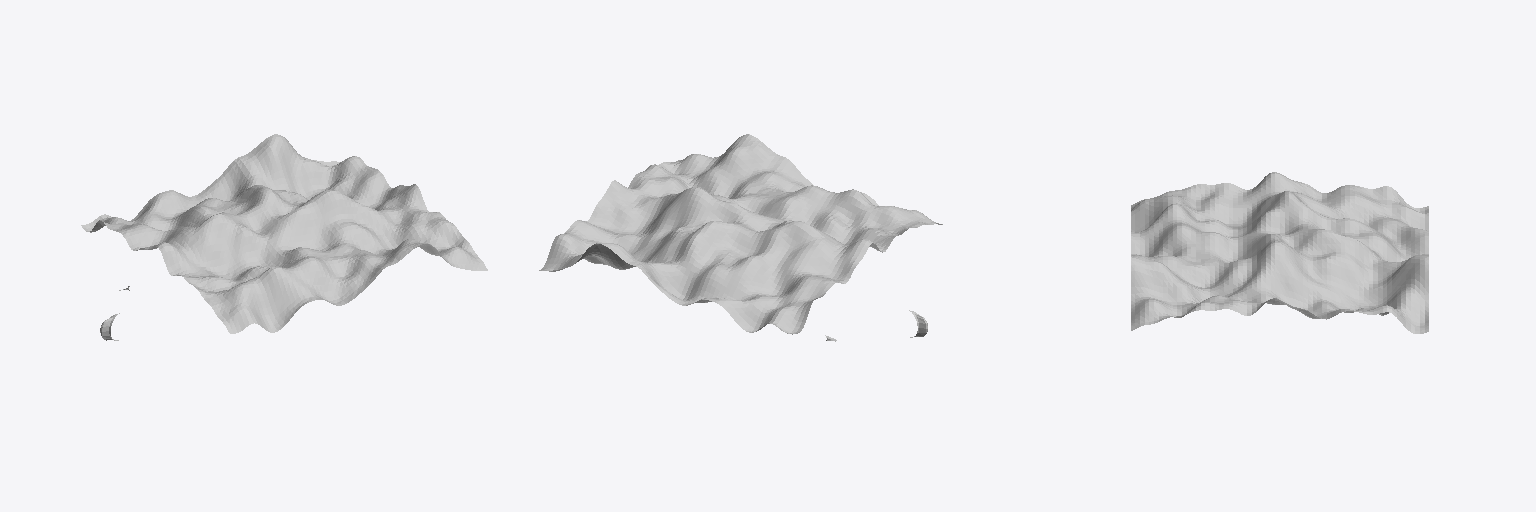
Rendered from noise.obj.
3 views of the same model, side by side, from view 1: azimuth 30°, elevation 25°; view 2: azimuth 150°, elevation 25°; view 3: azimuth 270°, elevation 25° (orthographic).
Visible parts, largest first — view 1: Plane; view 2: Plane; view 3: Plane.
Part boxes in pixels (x1,y1,x2,y2): Plane: (81, 134, 487, 333); Plane: (539, 134, 942, 334); Plane: (1131, 172, 1428, 333).
Bounding box in the file's own units: 24.4 × 7.24 × 20.